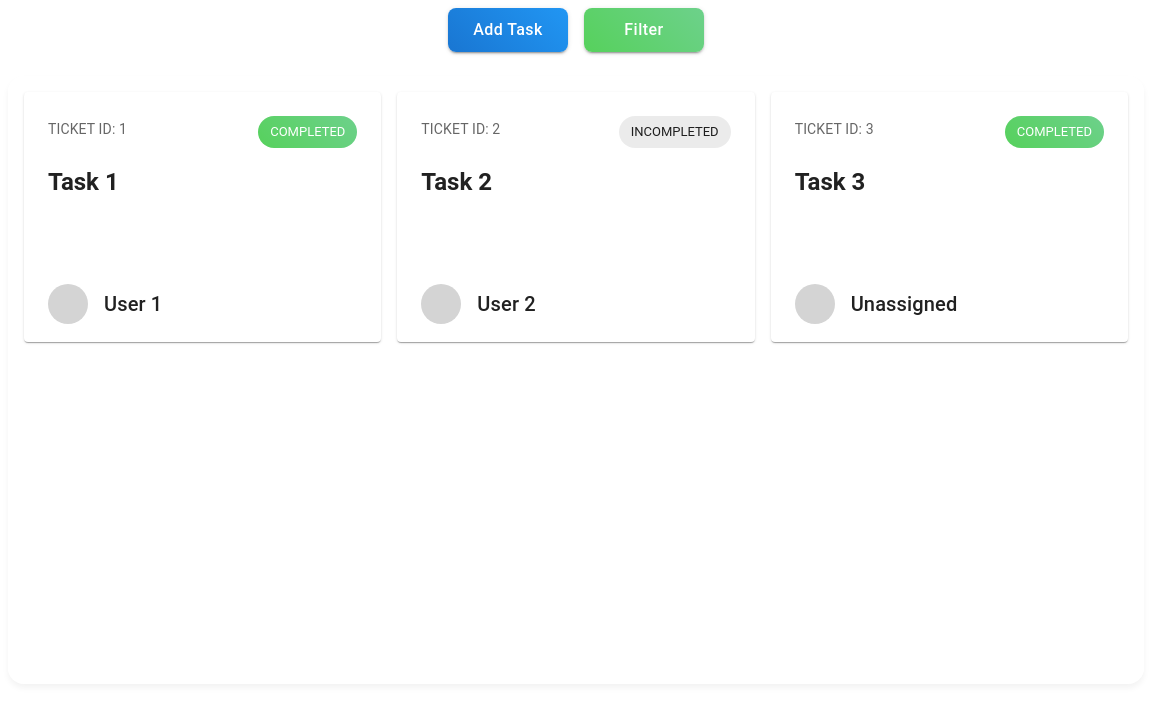
Scenario: Tickets Component › should open create task dialog when clicking Add Task
The width and height of the screenshot is (1152, 720).
What coordinates should you click on to do the following:
click the button "Add Task"
I would click on:
 (508, 30)
Its box is [448, 8, 568, 52].
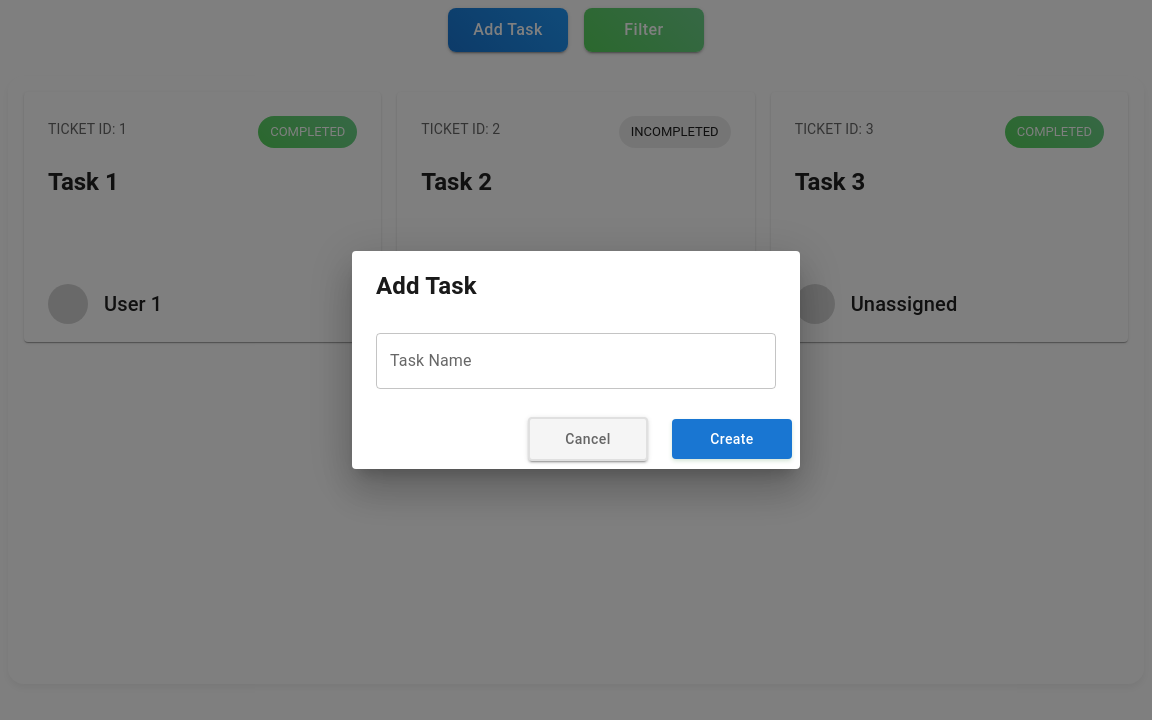
Now the heading "Add Task" is shown, box [376, 272, 477, 300]
Now the field labelled "Task Name" is shown, box [376, 333, 776, 389]
